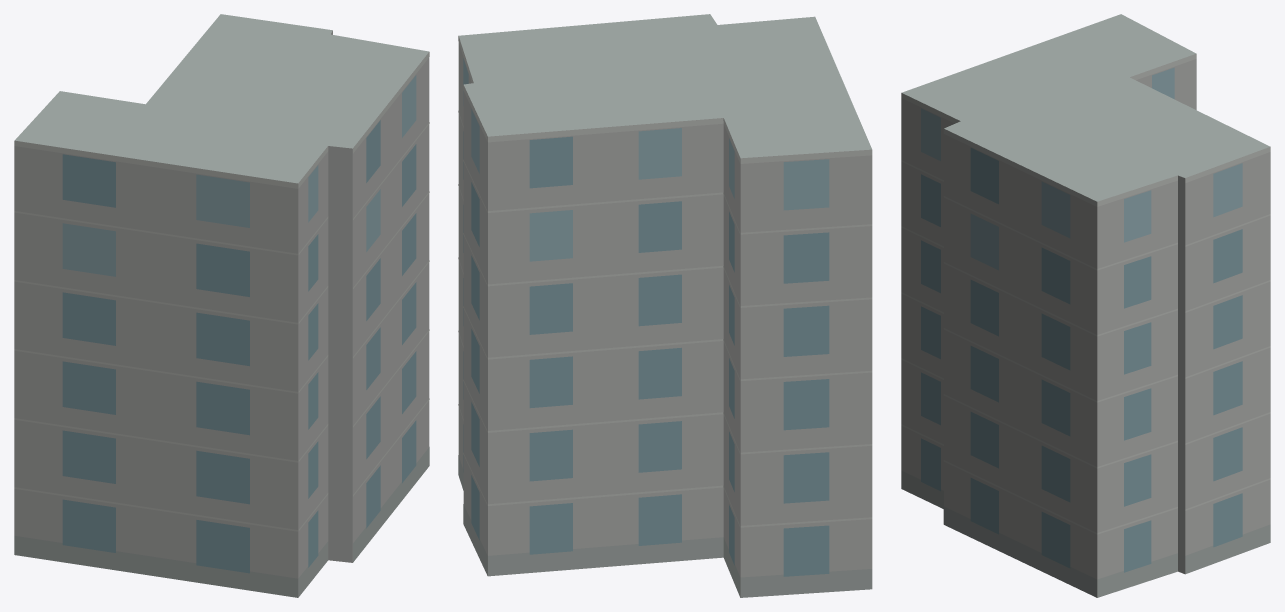
File: survey-upis-32600118.glb
The picture shows the model from 3 angles, left to right: view 1: azimuth 30°, elevation 25°; view 2: azimuth 150°, elevation 25°; view 3: azimuth 270°, elevation 25°; orthographic projection. The views are drawn at different scales.
Parts seen in each view (by area): view 1: survey-upis-32600118.tmp; view 2: survey-upis-32600118.tmp; view 3: survey-upis-32600118.tmp.
Boxes of the visible parts, box(x1,y1,x2,y2) form: survey-upis-32600118.tmp: box(14, 14, 429, 597); survey-upis-32600118.tmp: box(458, 14, 872, 597); survey-upis-32600118.tmp: box(901, 14, 1270, 597).
Bounding box in the file's own units: 18.93 × 18.6 × 15.73.
